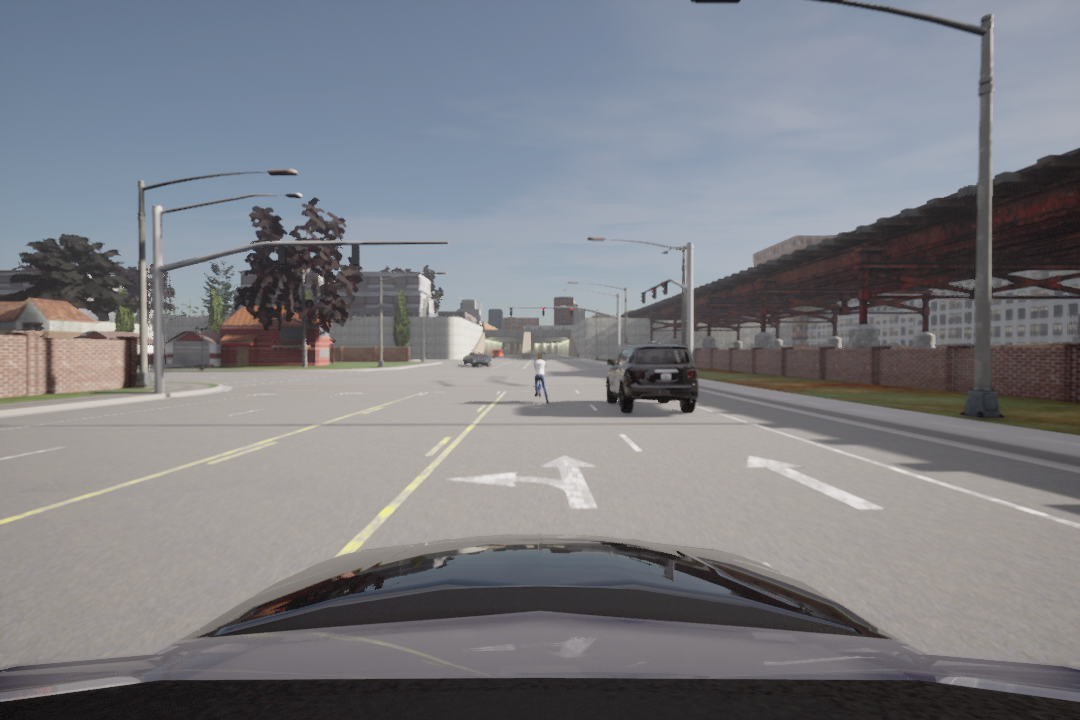RoadSign_forward: (729, 448, 882, 519)
RoadSign_forward_left: (444, 447, 607, 514)
